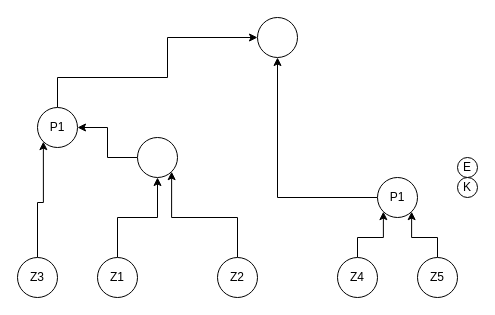
The diagram is 495 pixels wide and 315 high, and some of its shapes have lost their labels. Here are the shapes that lost their labels. From the top down, the box of each, then its label:
(256, 16, 298, 58): H1
(136, 136, 178, 178): P2
